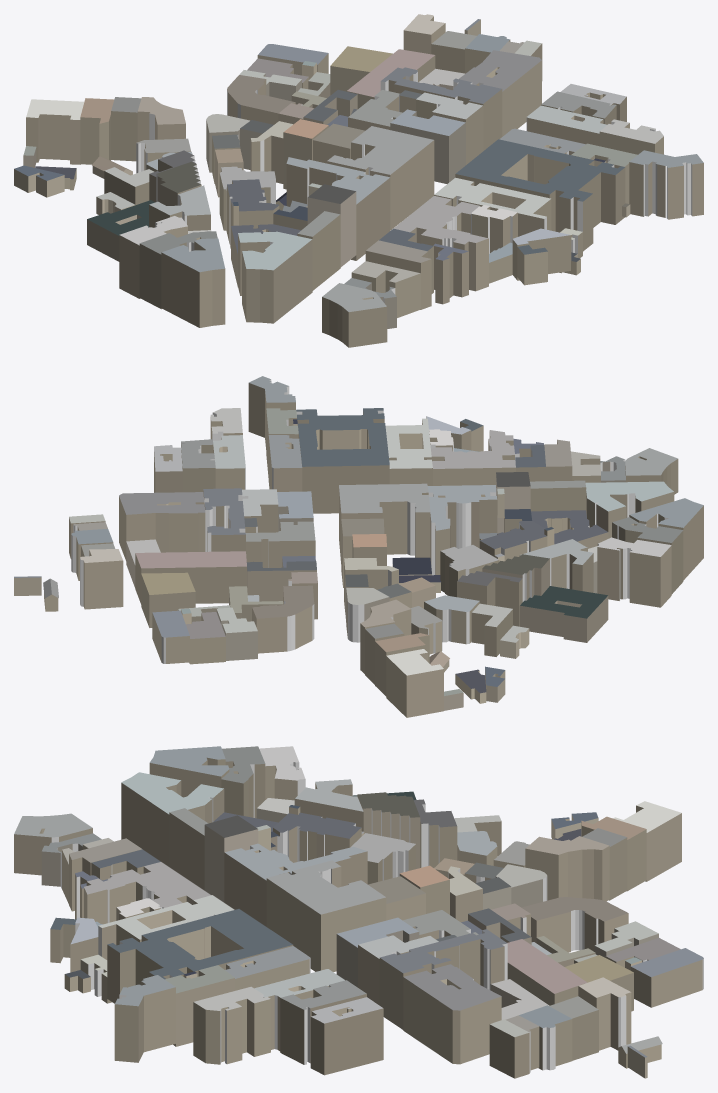
3 renders of one model, top to bottom at view 1: azimuth 30°, elevation 25°; view 2: azimuth 150°, elevation 25°; view 3: azimuth 270°, elevation 25°, orthographic. The views are drawn at different scales.
Parts seen in each view (by area): view 1: tuile; view 2: tuile; view 3: tuile.
Part boxes in pixels (<box>): tuile: <box>14,14,703,347</box>; tuile: <box>14,376,703,717</box>; tuile: <box>14,746,703,1078</box>.
Size of the model in its own units: 266 by 37.76 by 277.
